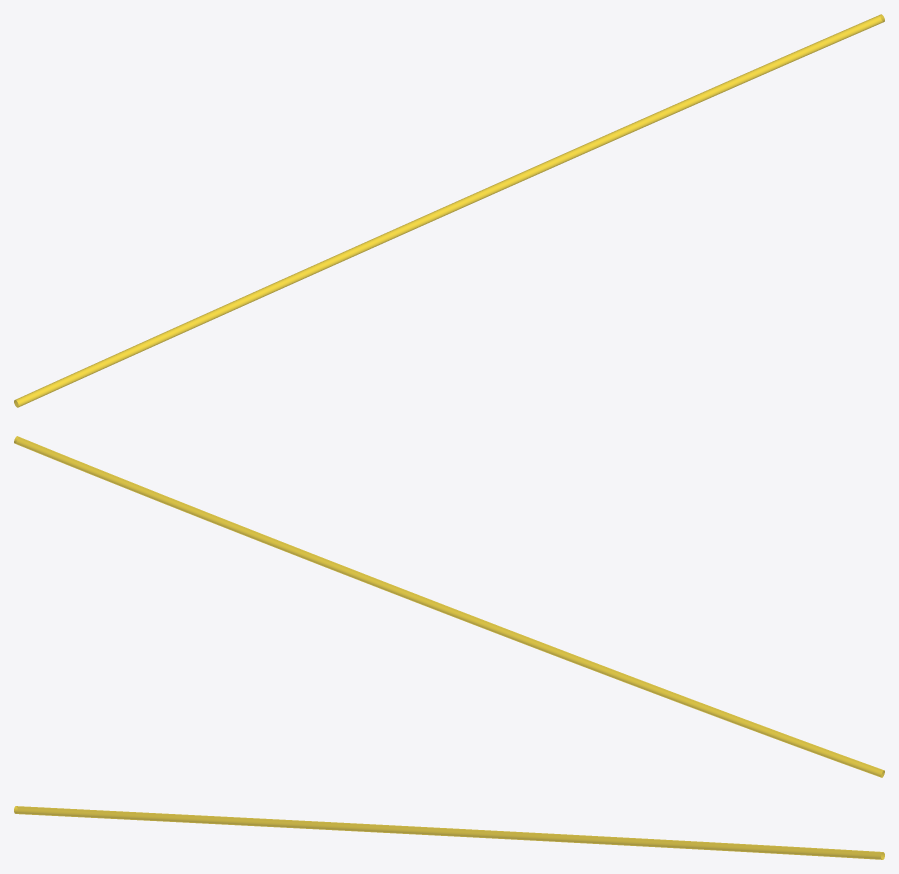
The model's file is Event_75125125_track_99.fbx.
3 renders of one model, top to bottom at view 1: azimuth 30°, elevation 25°; view 2: azimuth 150°, elevation 25°; view 3: azimuth 330°, elevation 25°, orthographic. The views are drawn at different scales.
Parts seen in each view (by area): view 1: Model; view 2: Model; view 3: Model.
Boxes of the visible parts, x1=… form: Model: x1=14, y1=14, x2=884, y2=407; Model: x1=14, y1=436, x2=884, y2=777; Model: x1=14, y1=806, x2=884, y2=859.
Bounding box in the file's own units: 4.89 × 0.8361 × 0.2604.
